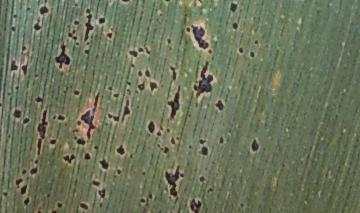tarspot: (81, 91, 101, 139), (193, 60, 214, 98), (191, 22, 209, 50), (165, 165, 180, 197), (167, 85, 180, 118), (54, 43, 71, 68), (38, 110, 47, 155), (83, 8, 94, 42), (120, 98, 131, 123), (62, 152, 76, 166), (168, 62, 177, 81), (148, 79, 159, 94), (97, 158, 109, 171), (191, 198, 201, 213), (251, 138, 260, 154), (115, 144, 126, 157), (199, 145, 210, 158), (36, 5, 50, 15), (135, 81, 147, 92), (9, 59, 19, 72), (214, 98, 224, 111), (21, 62, 29, 77), (147, 121, 155, 136), (12, 108, 22, 119), (19, 116, 31, 125), (33, 20, 42, 32), (75, 137, 87, 146), (127, 49, 139, 58), (78, 202, 90, 210), (97, 15, 106, 25), (14, 178, 23, 188), (97, 189, 106, 199), (197, 173, 206, 183), (20, 183, 27, 195), (23, 194, 30, 206), (34, 96, 44, 104), (230, 2, 238, 12), (147, 190, 154, 201), (105, 31, 113, 40), (73, 88, 81, 97), (55, 115, 67, 121), (29, 167, 38, 175), (138, 196, 146, 205), (248, 50, 256, 59), (198, 138, 208, 145), (145, 45, 152, 55), (82, 48, 90, 56), (112, 114, 120, 122), (136, 71, 144, 79), (92, 180, 101, 187), (115, 167, 122, 176), (162, 145, 169, 154), (184, 24, 191, 33), (49, 137, 56, 145), (83, 153, 91, 160), (75, 119, 82, 127), (145, 67, 150, 78), (71, 128, 80, 134), (169, 136, 175, 145), (138, 45, 144, 54), (21, 46, 28, 53), (1, 190, 8, 197), (92, 144, 99, 151), (140, 170, 147, 177), (106, 113, 113, 120), (206, 187, 213, 194), (125, 80, 132, 87), (13, 85, 21, 91), (32, 73, 40, 79), (25, 4, 31, 12), (56, 201, 62, 209), (219, 136, 225, 144), (165, 126, 171, 134), (237, 46, 243, 54), (105, 85, 113, 91), (112, 92, 120, 98), (9, 26, 16, 32), (73, 20, 80, 26), (21, 168, 27, 175), (45, 192, 51, 199), (128, 153, 134, 160), (175, 134, 181, 141), (155, 131, 162, 137), (166, 37, 172, 44), (129, 62, 136, 68), (232, 22, 237, 30), (12, 13, 18, 19), (71, 28, 77, 34), (239, 202, 245, 208), (33, 159, 40, 164), (254, 39, 259, 46), (158, 11, 163, 18), (75, 41, 80, 47), (72, 36, 78, 41), (67, 33, 73, 38), (36, 208, 42, 213), (180, 173, 185, 179), (187, 143, 192, 149), (156, 143, 162, 148), (207, 48, 212, 54), (85, 42, 91, 46), (51, 209, 57, 213), (121, 1, 131, 3), (52, 115, 57, 119), (163, 1, 171, 3), (1, 102, 2, 108)
